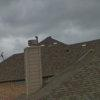Chimney: (18, 32, 53, 100)
